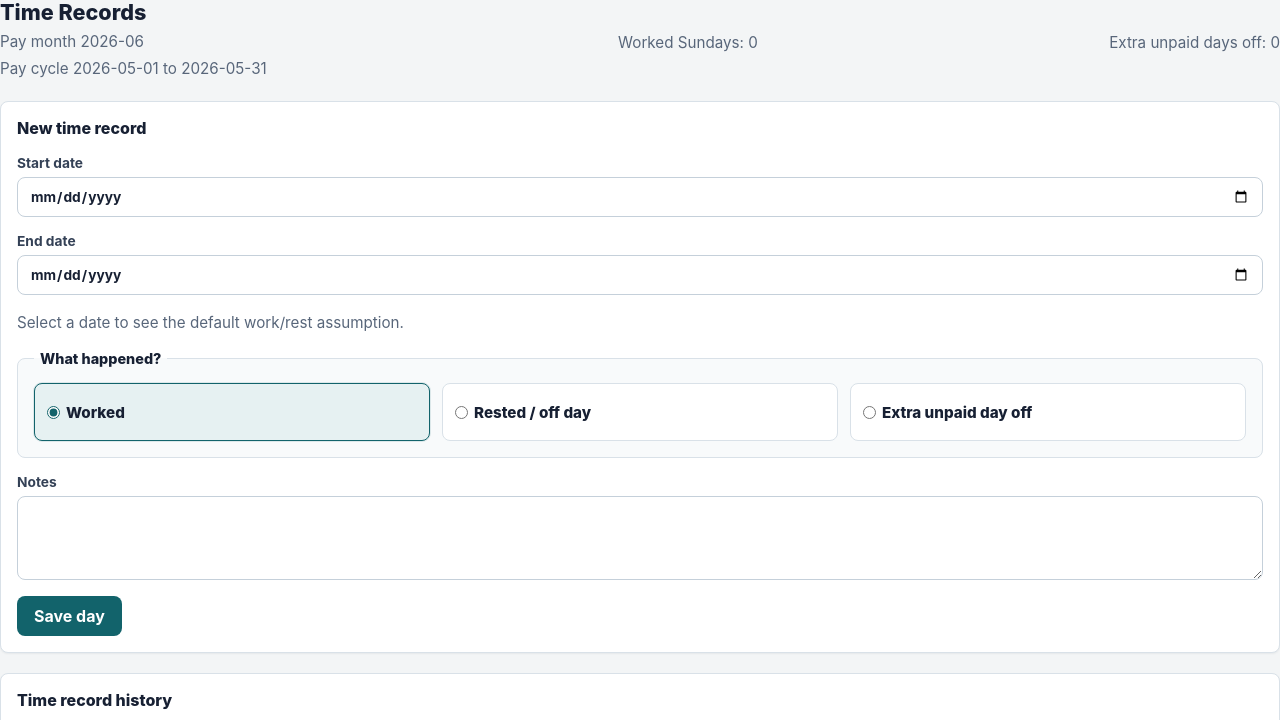
Test: TimeRecordsScreen › blocks an end date before the start date
Type "2026-06-10" into the date field labelled "Start date".
click(640, 197); type("2026-06-10")  # box [17, 177, 1263, 217]
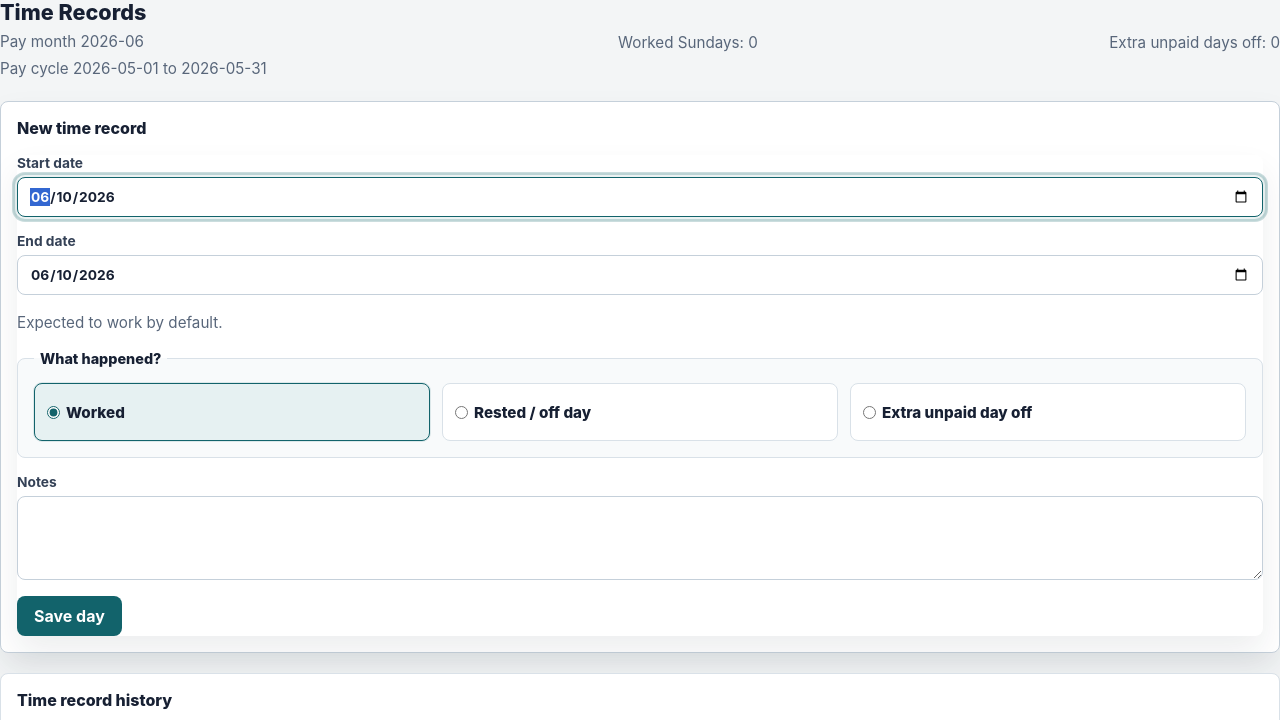
Type "2026-06-09" into the date field labelled "End date".
click(640, 275); type("2026-06-09")  # box [17, 255, 1263, 295]
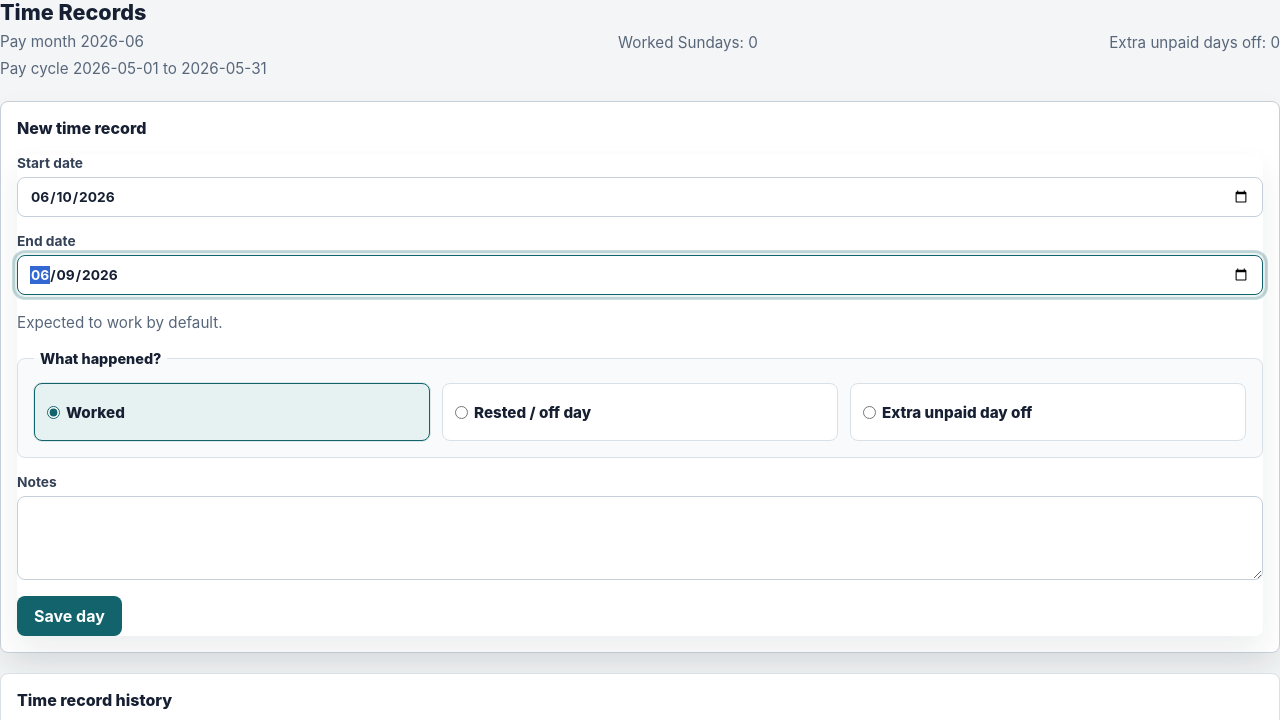
Click the button "Save day".
click(69, 616)  # box [17, 596, 122, 636]
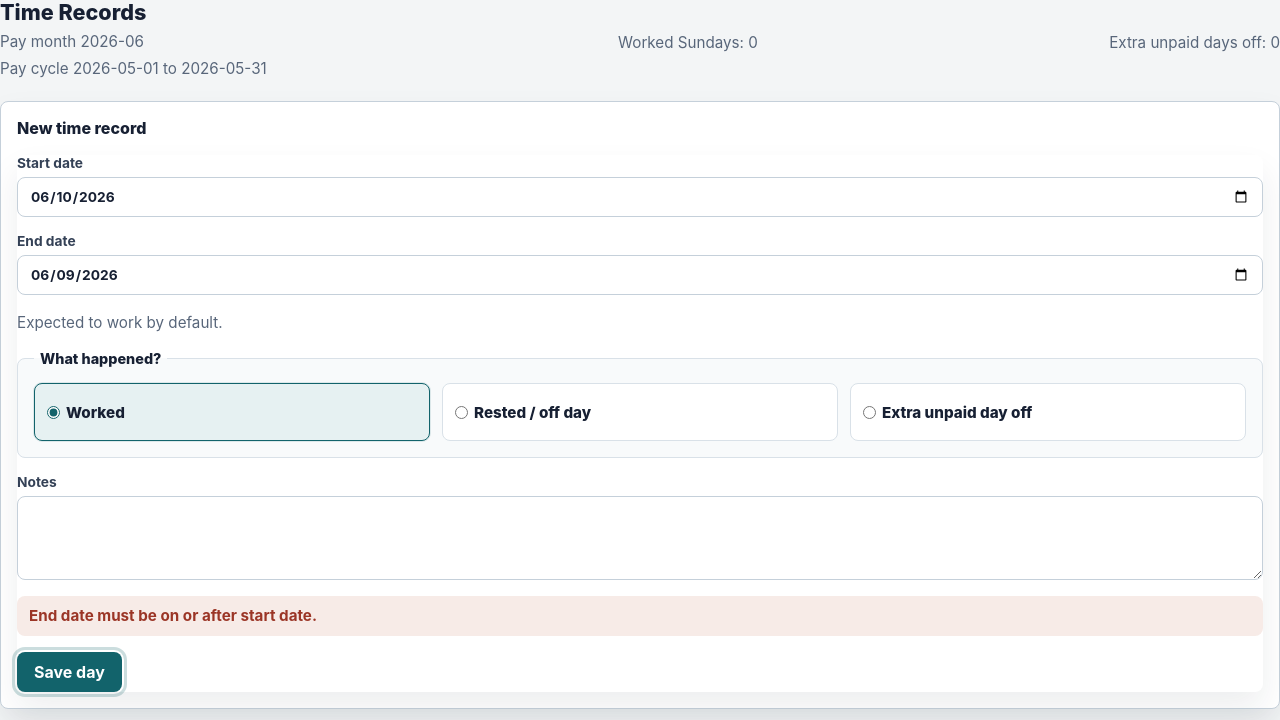
Result: the text "End date must be on or after start date." is shown at [17, 596, 1263, 636]
